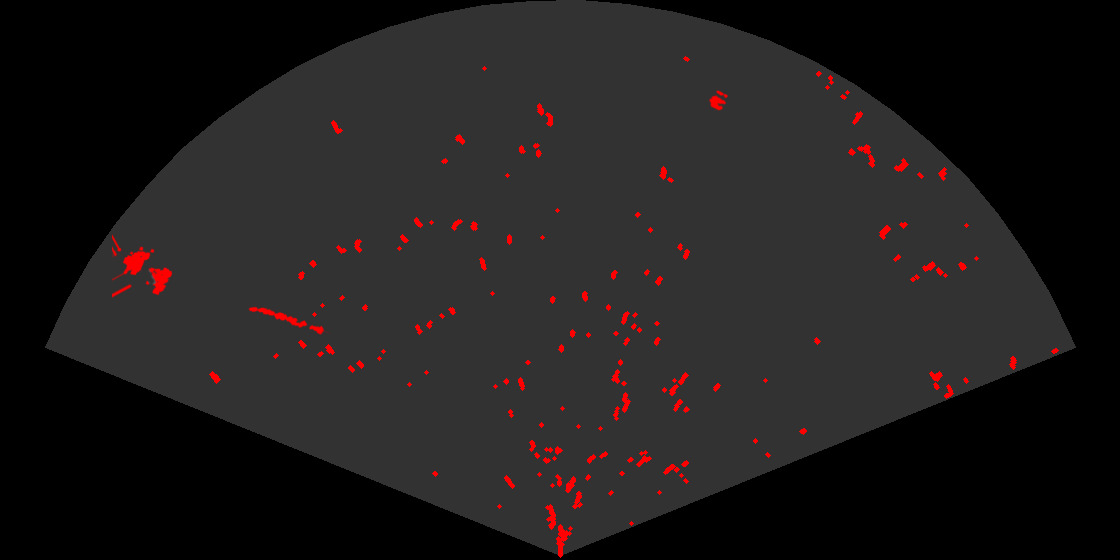ball: (707, 89, 730, 112)
cage: (112, 233, 174, 299)
chain: (247, 305, 330, 336)
